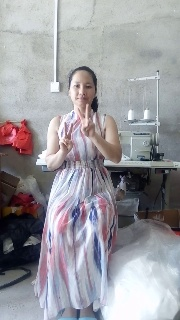hand: (76, 103, 95, 137), (59, 121, 73, 152)
